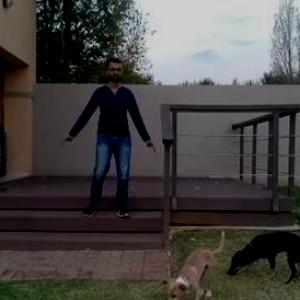land: (66, 60, 156, 228)
